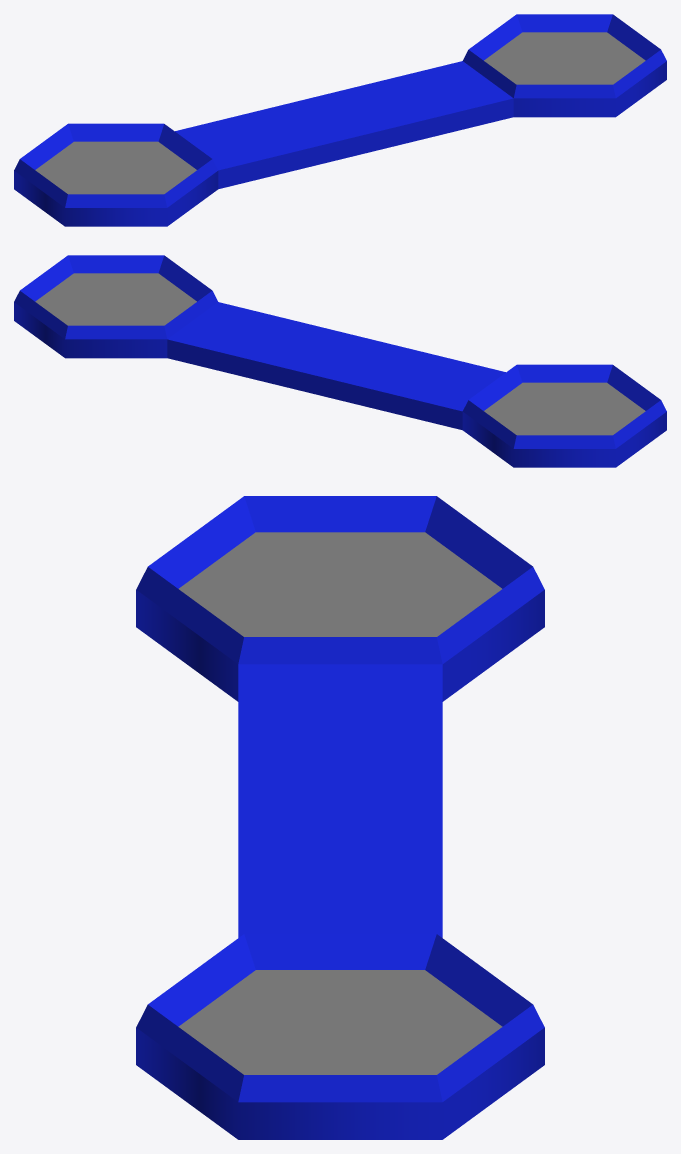
Rendered from LadderBase.fbx.
The picture shows the model from 3 angles, top to bottom: view 1: azimuth 30°, elevation 25°; view 2: azimuth 150°, elevation 25°; view 3: azimuth 270°, elevation 25°; orthographic projection. The views are drawn at different scales.
Visible parts, largest first — view 1: Cylinder010; view 2: Cylinder010; view 3: Cylinder010.
Boxes of the visible parts, <box> form: Cylinder010: <box>14,14,666,226</box>; Cylinder010: <box>14,255,666,467</box>; Cylinder010: <box>136,496,544,1139</box>.
Bounding box in the file's own units: 33.45 × 1.61 × 9.84.
